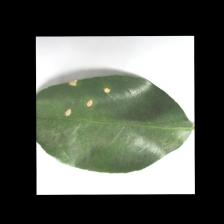canker: (60, 82, 117, 125)
